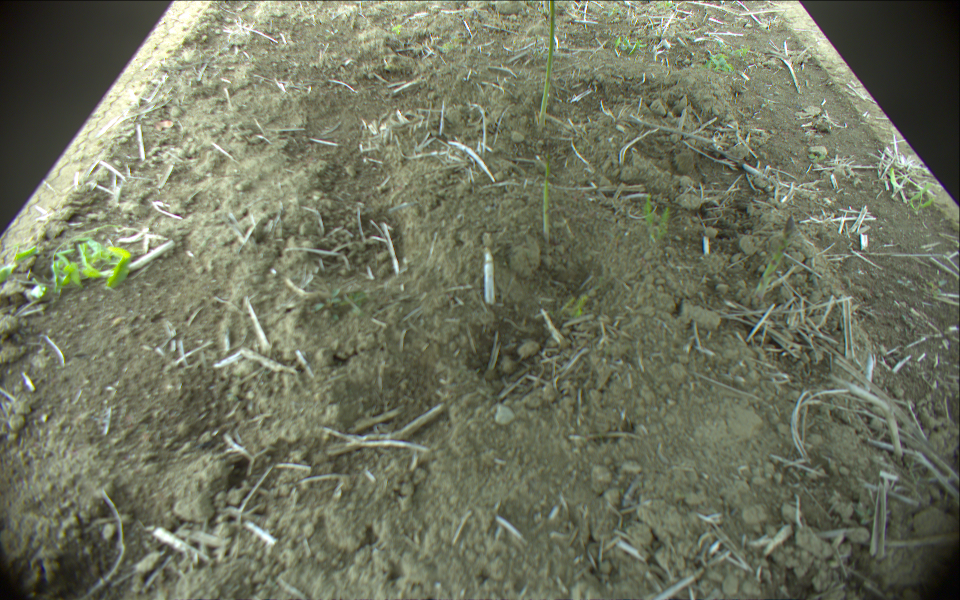aspa: (752, 214, 796, 301), (537, 1, 557, 122), (540, 159, 551, 240)
